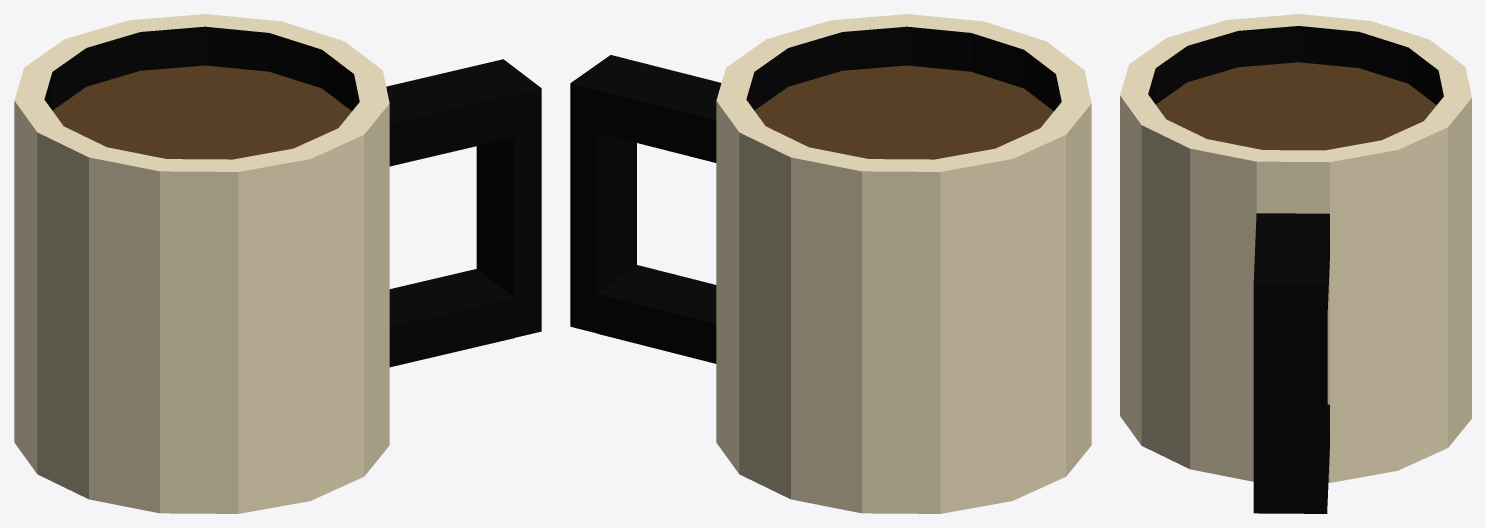
Rendered from cup.fbx.
3 views of the same model, side by side, from view 1: azimuth 30°, elevation 25°; view 2: azimuth 150°, elevation 25°; view 3: azimuth 270°, elevation 25° (orthographic). The views are drawn at different scales.
Parts seen in each view (by area): view 1: Цилиндр; view 2: Цилиндр; view 3: Цилиндр.
Part boxes in pixels (x1,y1,x2,y2): Цилиндр: (14,14,541,513); Цилиндр: (570,14,1091,513); Цилиндр: (1120,14,1471,513).
Bounding box in the file's own units: 2.94 × 2 × 1.99.
